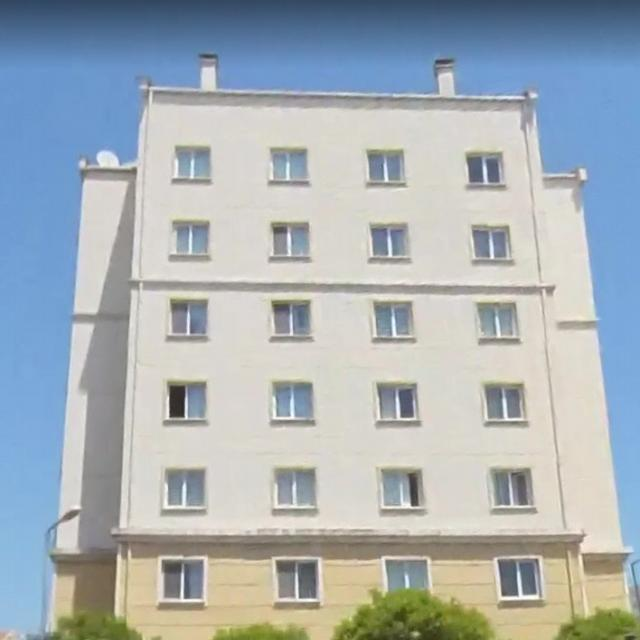Building: (46, 77, 633, 639)
